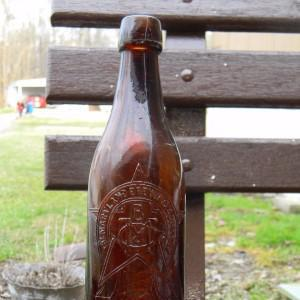beer: (84, 14, 185, 300)
